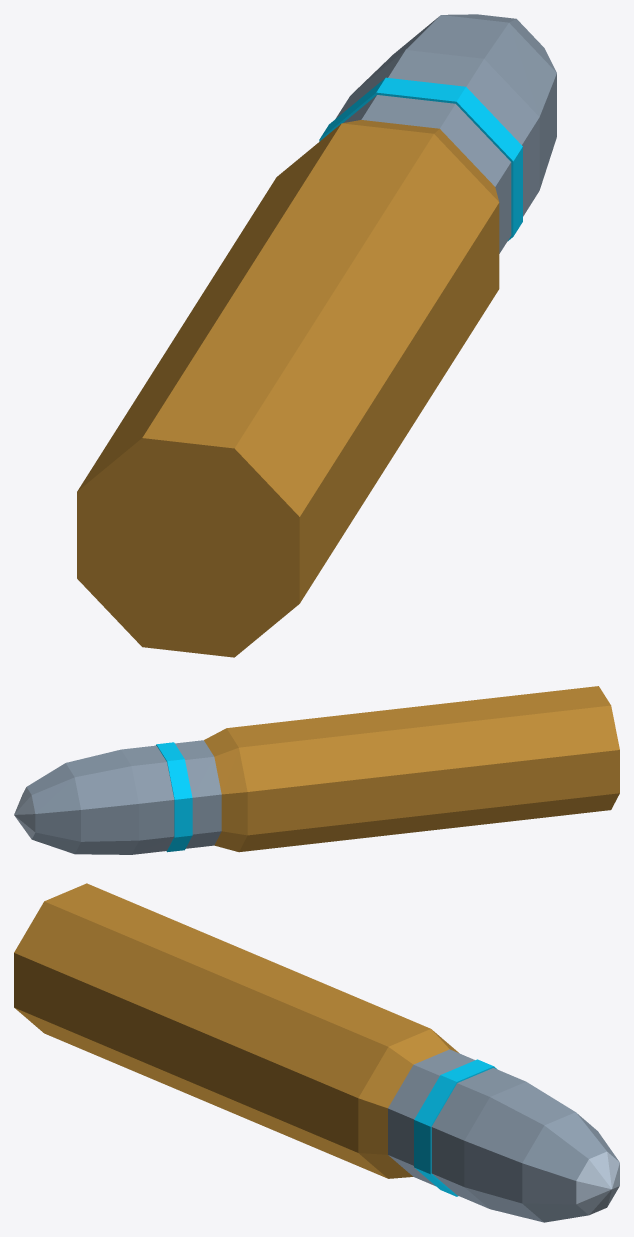
Rendered from ce_ammo_heavy_emp_a.obj.
3 renders of one model, top to bottom at view 1: azimuth 30°, elevation 25°; view 2: azimuth 150°, elevation 25°; view 3: azimuth 270°, elevation 25°, orthographic. The views are drawn at different scales.
Parts seen in each view (by area): view 1: ce_ammo_heavy_emp_a_0, ce_ammo_heavy_emp_a_5, ce_ammo_heavy_emp_a_4, ce_ammo_heavy_emp_a_2, ce_ammo_heavy_emp_a_3, ce_ammo_heavy_emp_a_1; view 2: ce_ammo_heavy_emp_a_0, ce_ammo_heavy_emp_a_5, ce_ammo_heavy_emp_a_4, ce_ammo_heavy_emp_a_6, ce_ammo_heavy_emp_a_1, ce_ammo_heavy_emp_a_2, ce_ammo_heavy_emp_a_3, ce_ammo_heavy_emp_a_7; view 3: ce_ammo_heavy_emp_a_0, ce_ammo_heavy_emp_a_5, ce_ammo_heavy_emp_a_6, ce_ammo_heavy_emp_a_1, ce_ammo_heavy_emp_a_4, ce_ammo_heavy_emp_a_2, ce_ammo_heavy_emp_a_3, ce_ammo_heavy_emp_a_7.
Part boxes in pixels (bbox=[...]): ce_ammo_heavy_emp_a_0: bbox=[77, 123, 499, 657]; ce_ammo_heavy_emp_a_5: bbox=[352, 15, 556, 189]; ce_ammo_heavy_emp_a_4: bbox=[335, 50, 539, 216]; ce_ammo_heavy_emp_a_2: bbox=[343, 95, 511, 253]; ce_ammo_heavy_emp_a_3: bbox=[319, 77, 522, 240]; ce_ammo_heavy_emp_a_1: bbox=[343, 120, 498, 201]; ce_ammo_heavy_emp_a_0: bbox=[226, 686, 619, 852]; ce_ammo_heavy_emp_a_5: bbox=[66, 749, 138, 854]; ce_ammo_heavy_emp_a_4: bbox=[121, 745, 174, 854]; ce_ammo_heavy_emp_a_6: bbox=[27, 763, 80, 853]; ce_ammo_heavy_emp_a_1: bbox=[204, 728, 247, 851]; ce_ammo_heavy_emp_a_2: bbox=[175, 740, 221, 848]; ce_ammo_heavy_emp_a_3: bbox=[156, 742, 192, 852]; ce_ammo_heavy_emp_a_7: bbox=[14, 787, 35, 839]; ce_ammo_heavy_emp_a_0: bbox=[14, 883, 430, 1178]; ce_ammo_heavy_emp_a_5: bbox=[464, 1081, 575, 1222]; ce_ammo_heavy_emp_a_6: bbox=[522, 1112, 619, 1222]; ce_ammo_heavy_emp_a_1: bbox=[358, 1029, 459, 1178]; ce_ammo_heavy_emp_a_4: bbox=[431, 1068, 525, 1208]; ce_ammo_heavy_emp_a_2: bbox=[388, 1049, 474, 1186]; ce_ammo_heavy_emp_a_3: bbox=[414, 1059, 497, 1196]; ce_ammo_heavy_emp_a_7: bbox=[576, 1151, 619, 1215].
Bounding box in the file's own units: 0.7684 × 0.1848 × 0.7684.
